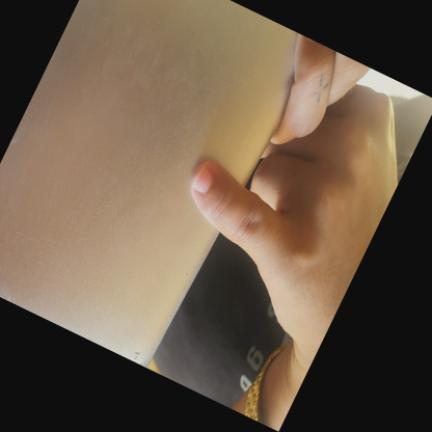Nail: (192, 166, 211, 193)
